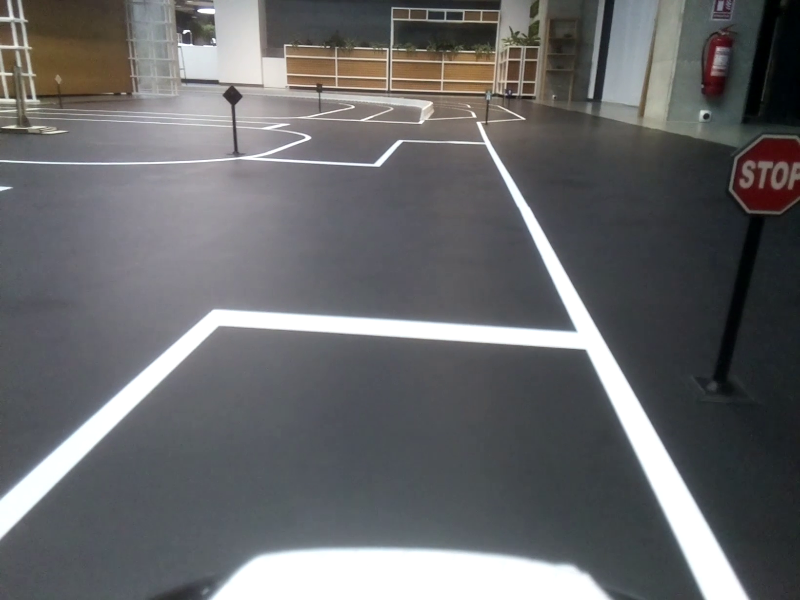stop: (727, 132, 800, 218)
